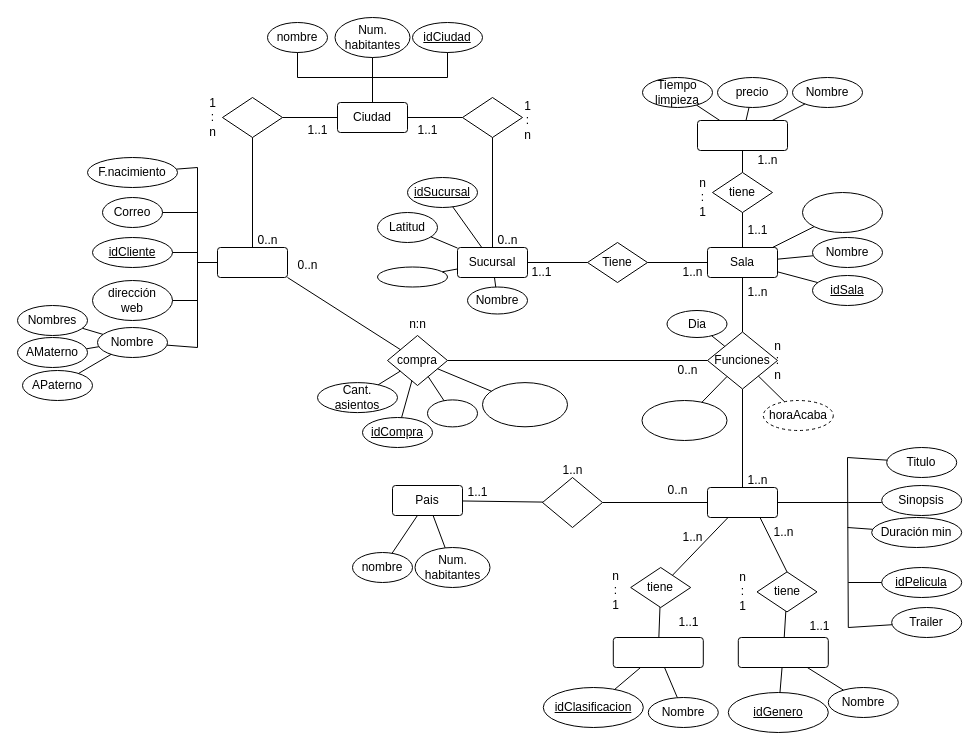
The diagram is 980 pixels wide and 750 high, and some of its shapes have lost their labels. The centre of each missing label's shape, as x and y in pixels:
"Asientos disp" belongs at pixel 842 212.
"Clasificación" belongs at pixel 657 652.
"Cliente" belongs at pixel 252 262.
"Costo" belongs at pixel 452 413.
"Crea" belongs at pixel 572 502.
"Está" belongs at pixel 492 117.
"FechaHora Compra" belongs at pixel 525 404.
"Genero" belongs at pixel 782 652.
"horaInicio" belongs at pixel 684 420.
"Longitud" belongs at pixel 412 276.
"Pelicula" belongs at pixel 742 502.
"tipo" belongs at pixel 742 135.
"vive" belongs at pixel 252 117.
